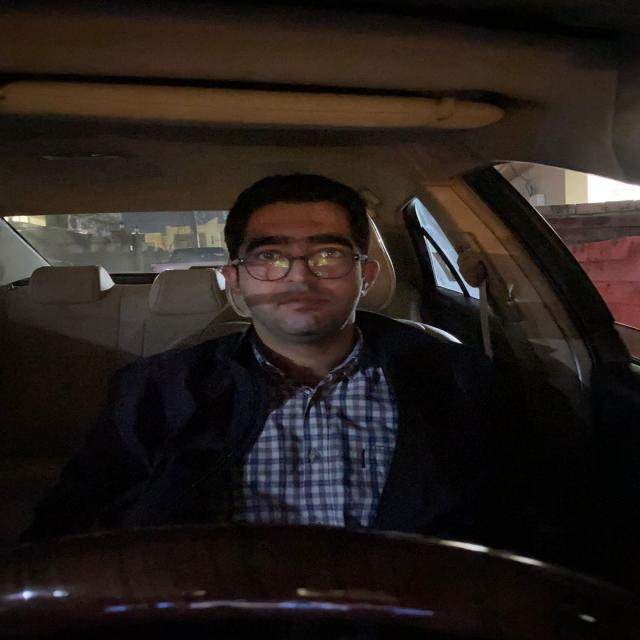person: (218, 166, 386, 354)
